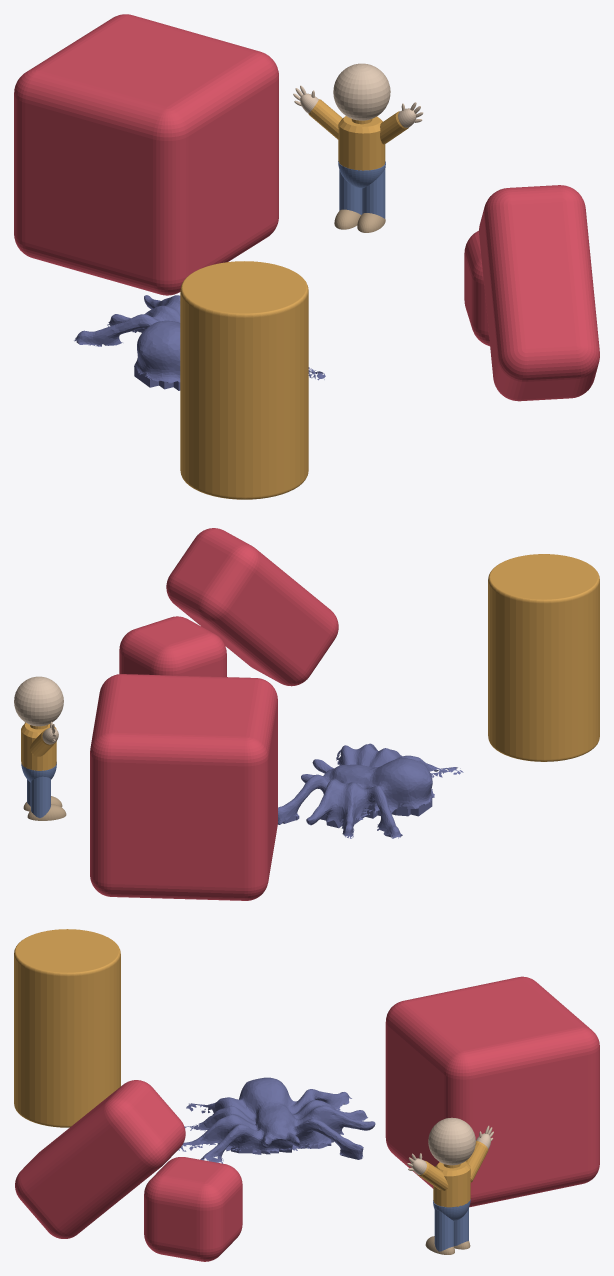
Rendered from spider_ar.glb.
3 views of the same model, one above another, from view 1: azimuth 30°, elevation 25°; view 2: azimuth 150°, elevation 25°; view 3: azimuth 270°, elevation 25° (orthographic). The views are drawn at different scales.
Visible parts, largest first — view 1: Mesh_Mesh_head_geo.001_lambert2SG.001; view 2: Mesh_Mesh_head_geo.001_lambert2SG.001; view 3: Mesh_Mesh_head_geo.001_lambert2SG.001.
Part boxes in pixels (box(x1,y1,x2,y2)): Mesh_Mesh_head_geo.001_lambert2SG.001: box(14, 14, 599, 499); Mesh_Mesh_head_geo.001_lambert2SG.001: box(14, 528, 599, 900); Mesh_Mesh_head_geo.001_lambert2SG.001: box(14, 929, 599, 1261).
Size of the model in its own units: 0.1027 by 0.04 by 0.1371.
